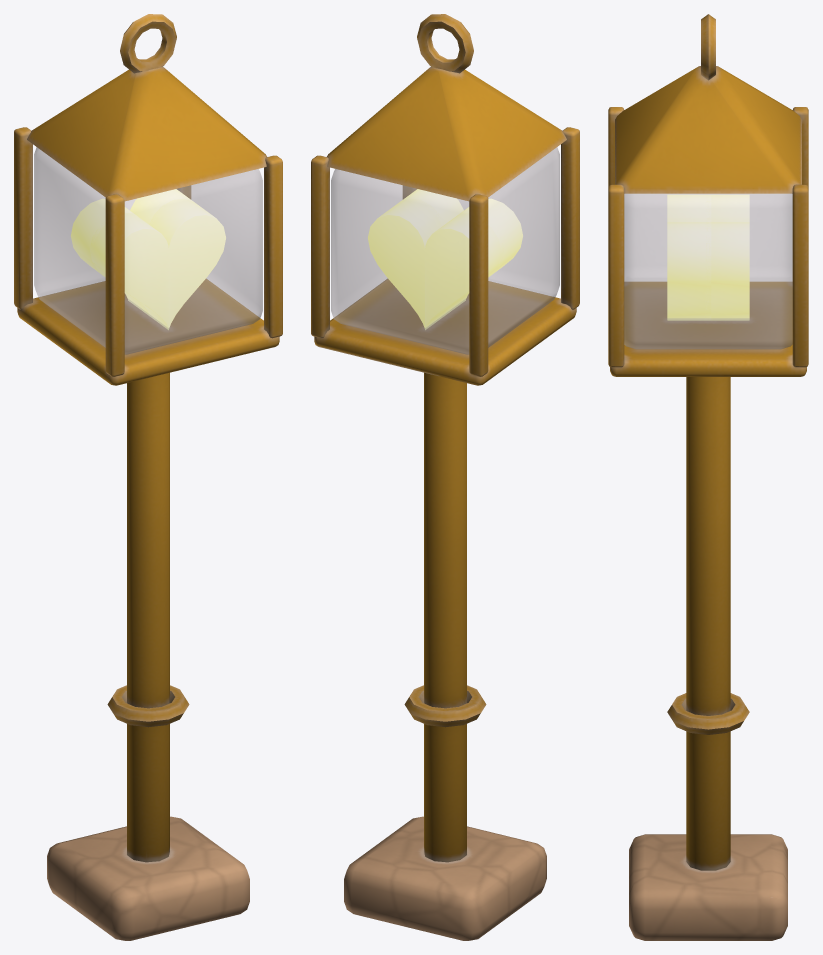
The model's file is sd_golden_lantern.glb.
3 views of the same model, side by side, from view 1: azimuth 30°, elevation 25°; view 2: azimuth 150°, elevation 25°; view 3: azimuth 270°, elevation 25° (orthographic).
Visible parts, largest first — view 1: sd_golden_lantern; view 2: sd_golden_lantern; view 3: sd_golden_lantern.
Part boxes in pixels (x1,y1,x2,y2): sd_golden_lantern: [14, 14, 282, 940]; sd_golden_lantern: [311, 14, 579, 940]; sd_golden_lantern: [608, 14, 808, 940].
Size of the model in its own units: 0.63 by 3.12 by 0.63.
Materials: 4 (4 with a texture image).
